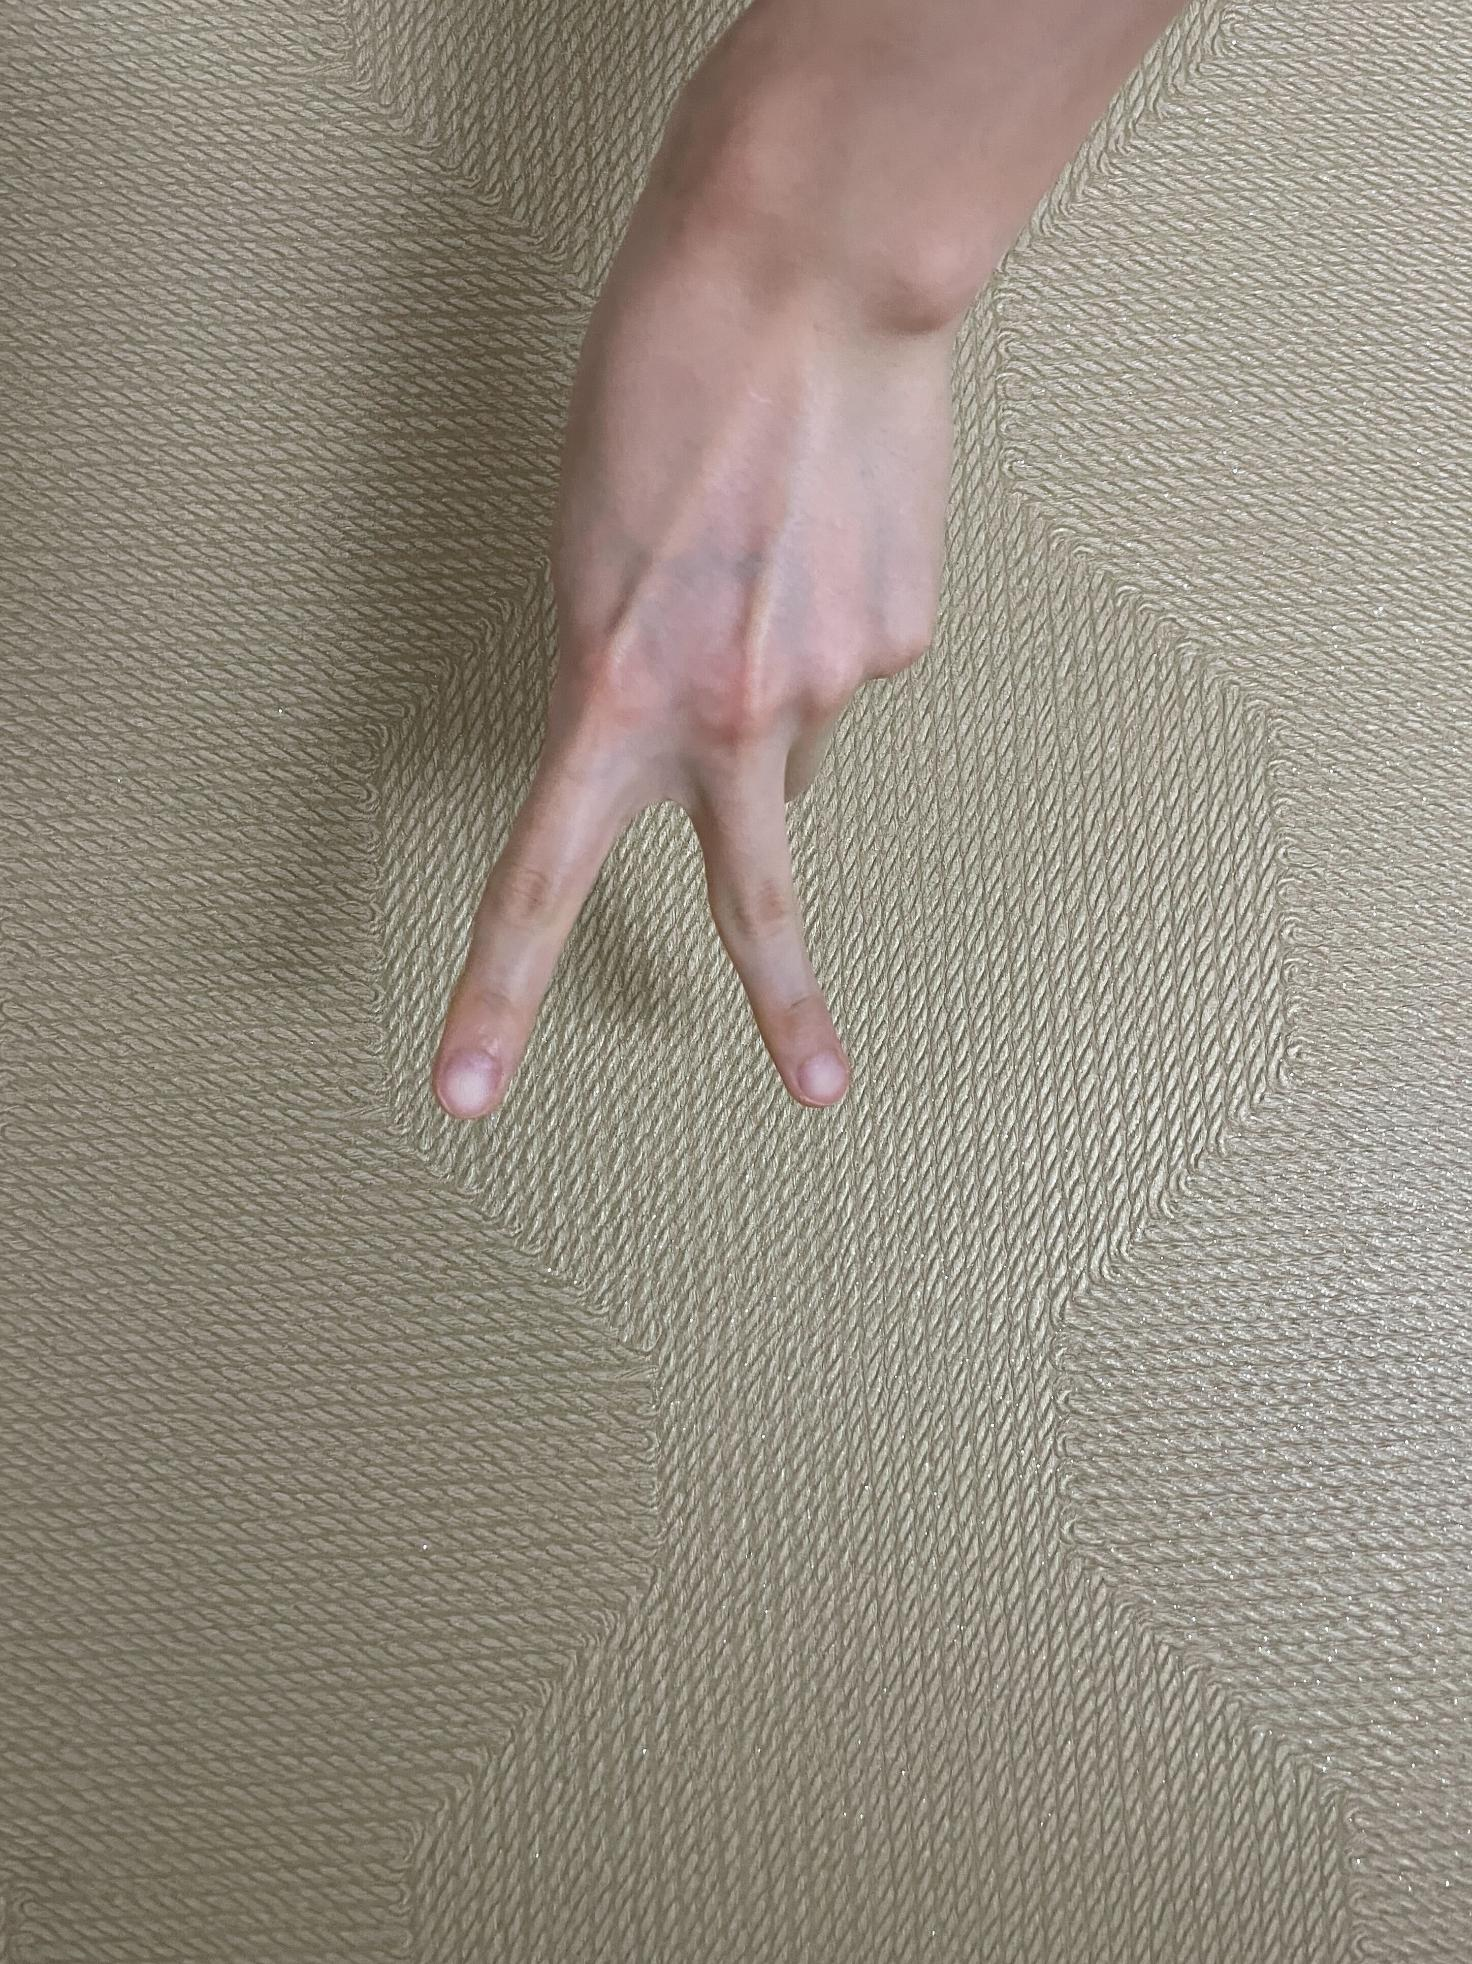v: (436, 79, 1002, 1130)
